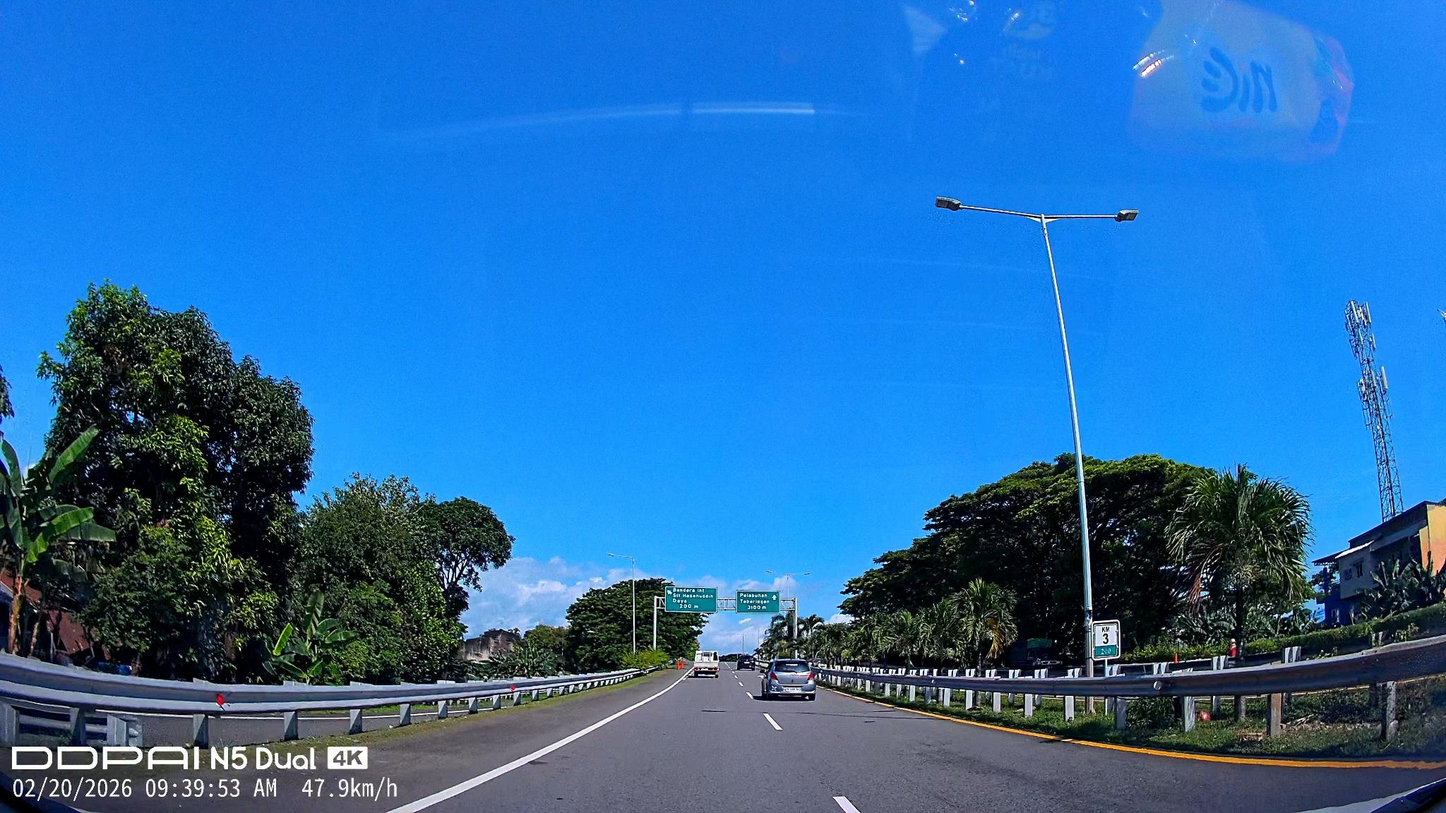rambu_teks: (665, 586, 718, 613), (736, 591, 780, 614)
